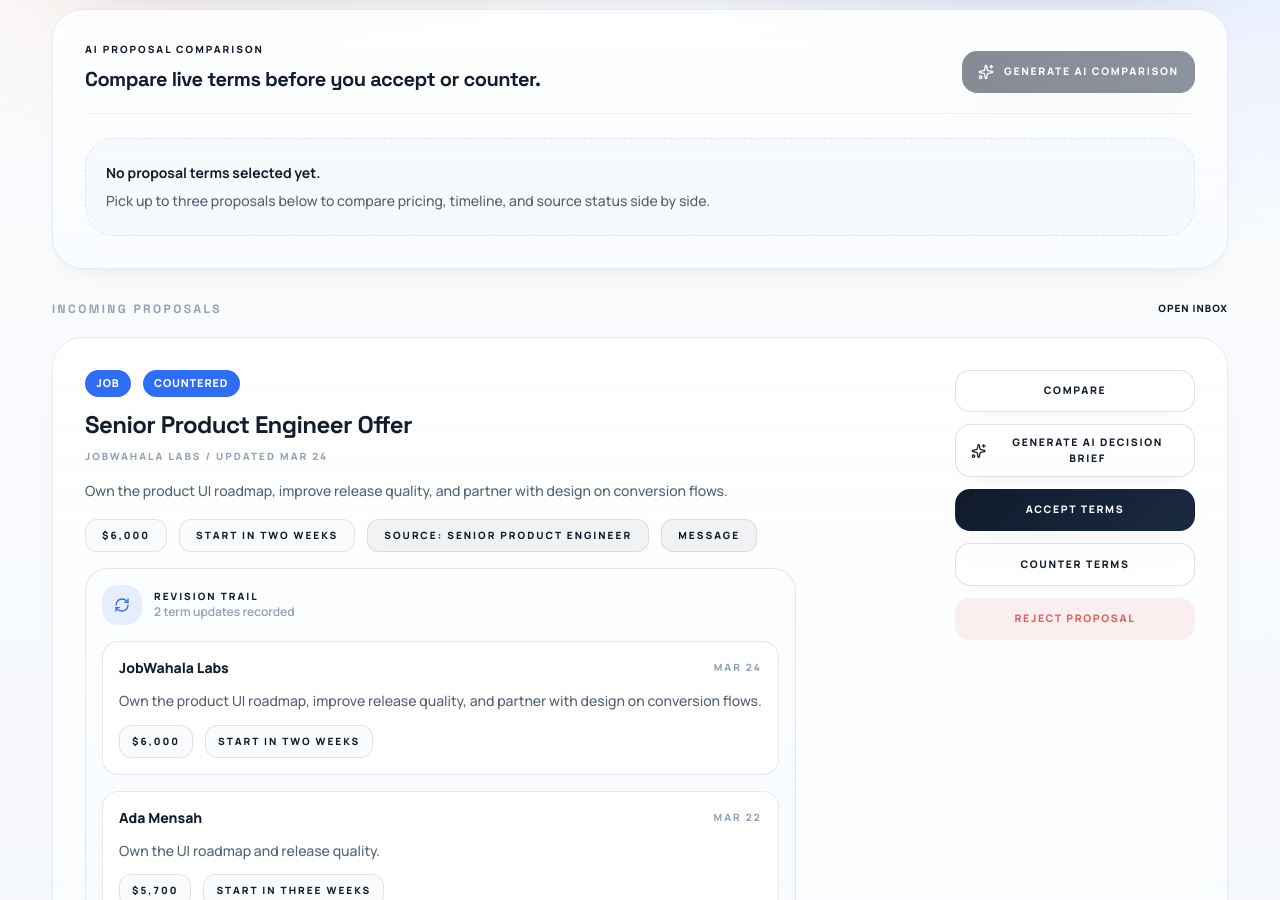
Scenario: Proposals negotiation flow › generates an AI decision brief for the current proposal terms
The image size is (1280, 900).
(page scrolled)
Expected: the heading "Senior Product Engineer Offer" is shown, [85, 409, 412, 440]
Click the button "Generate AI Decision Brief".
click(1075, 451)  # box [955, 424, 1195, 477]
(page scrolled)
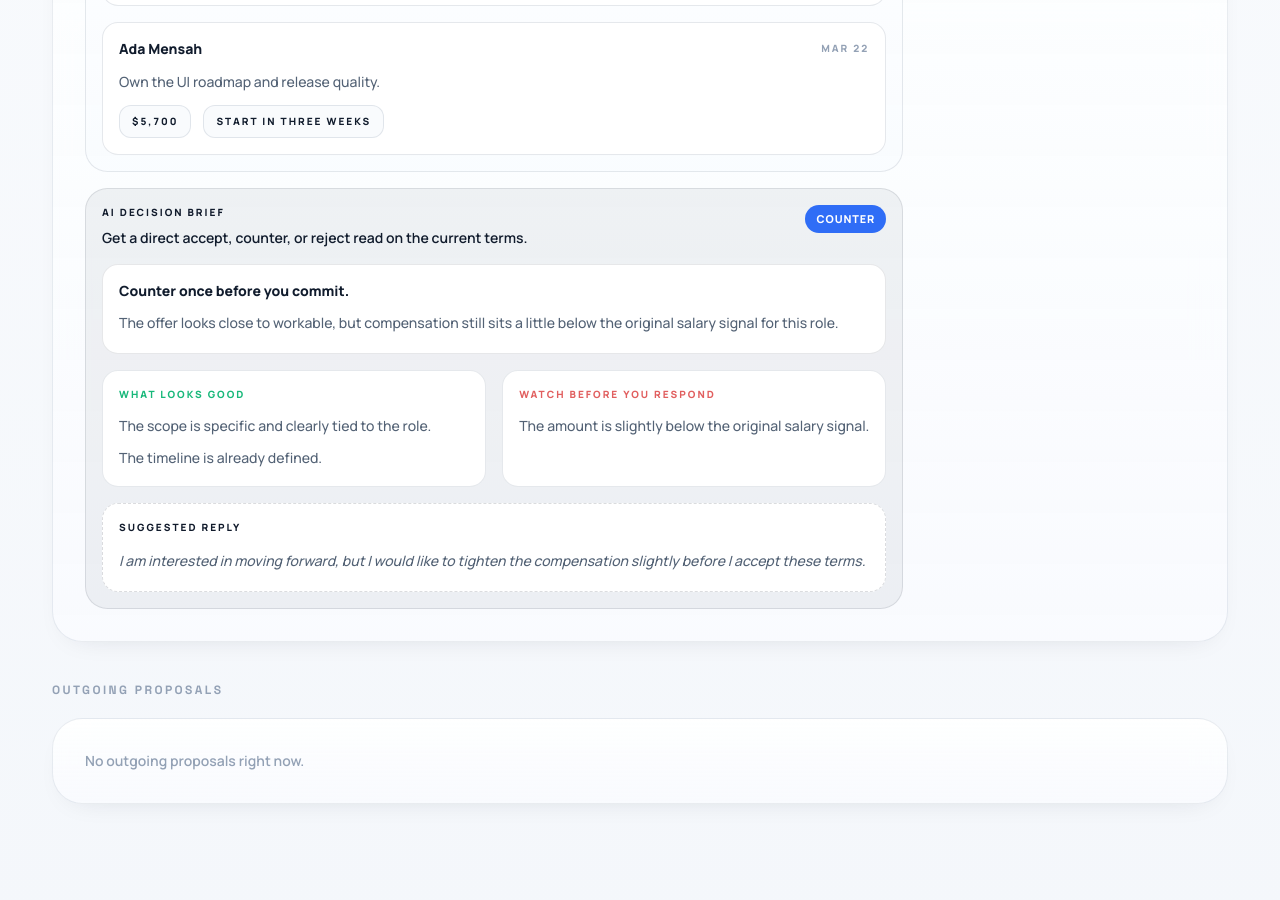
Expected: the text "Counter once before you commit." is shown, [119, 281, 349, 300]
Expected: the text "COUNTER" is shown, [805, 205, 886, 233]
Expected: the text "The amount is slightly below the original salary signal." is shown, [519, 414, 869, 438]
